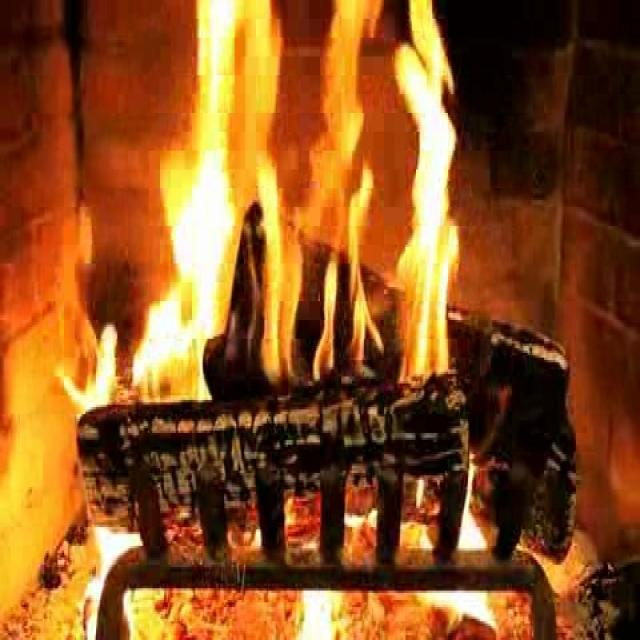fire: (152, 6, 464, 389)
